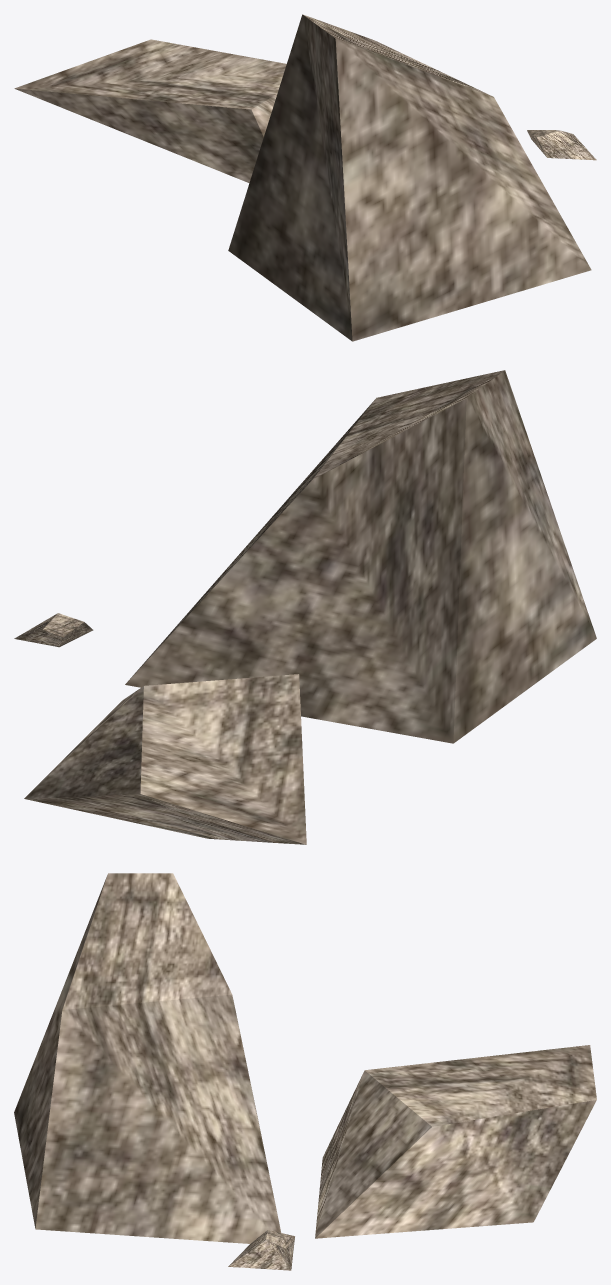
The model's file is rochas.glb.
3 renders of one model, top to bottom at view 1: azimuth 30°, elevation 25°; view 2: azimuth 150°, elevation 25°; view 3: azimuth 270°, elevation 25°, orthographic. The views are drawn at different scales.
Visible parts, largest first — view 1: Cube, Cube.001, Cube.002; view 2: Cube, Cube.001, Cube.002; view 3: Cube, Cube.001, Cube.002.
Part boxes in pixels (bbox=[...]): Cube: bbox=[228, 14, 591, 341]; Cube.001: bbox=[14, 39, 286, 182]; Cube.002: bbox=[527, 130, 596, 160]; Cube: bbox=[125, 370, 596, 743]; Cube.001: bbox=[24, 674, 306, 844]; Cube.002: bbox=[14, 613, 93, 647]; Cube: bbox=[14, 873, 281, 1243]; Cube.001: bbox=[315, 1045, 596, 1238]; Cube.002: bbox=[228, 1230, 294, 1270].
Bounding box in the file's own units: 2.49 × 1.55 × 3.16.
1 material, 1 textured.
